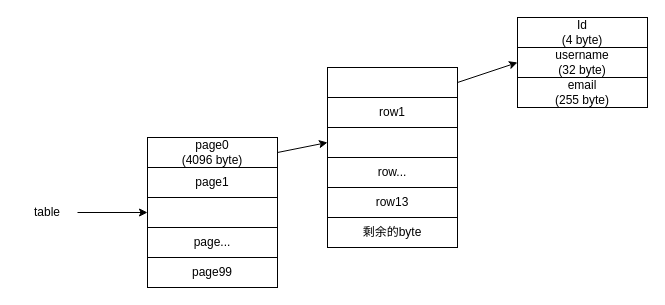
Image size: 665x305. Some labels were removed from this diagram. The centre of each missing label's shape, as x and y in pixels:
"page2" goes at point (212, 212).
"row0 (291 byte)" goes at point (392, 82).
"row2" goes at point (392, 142).
